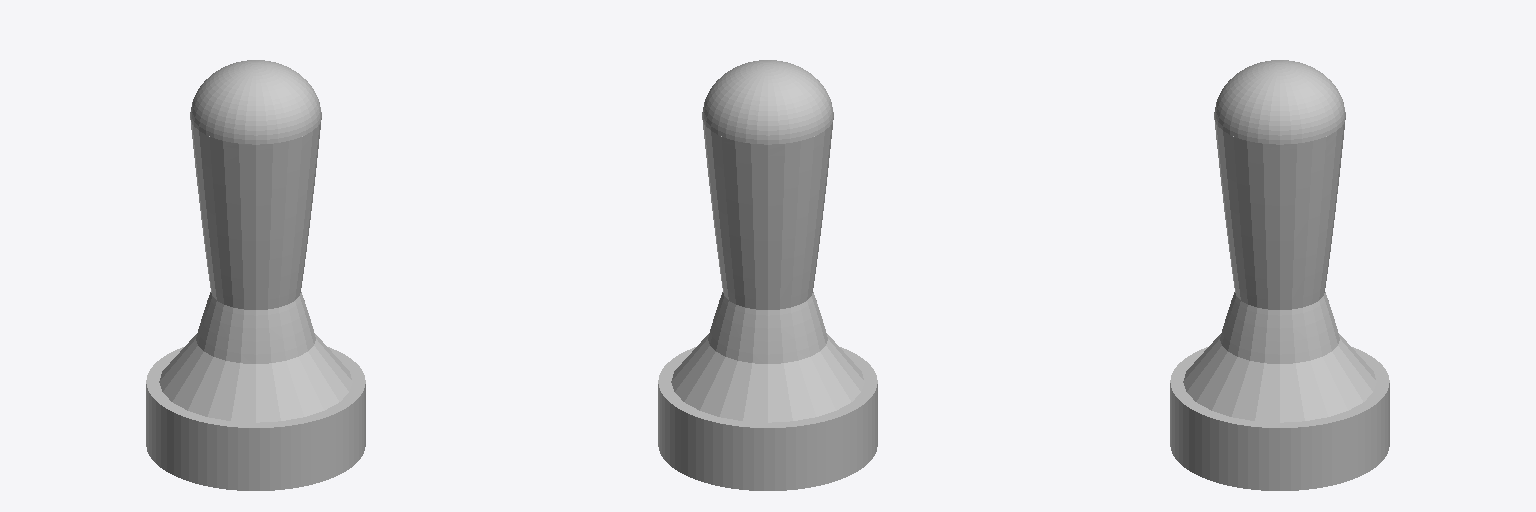
File: Laufer.obj
3 renders of one model, left to right at view 1: azimuth 30°, elevation 25°; view 2: azimuth 150°, elevation 25°; view 3: azimuth 270°, elevation 25°, orthographic.
Parts seen in each view (by area): view 1: obj_0.004; view 2: obj_0.004; view 3: obj_0.004.
Boxes of the visible parts, <box> form: obj_0.004: <box>146,60,365,490</box>; obj_0.004: <box>658,60,877,490</box>; obj_0.004: <box>1170,60,1389,490</box>.
Size of the model in its own units: 20 by 38 by 20.